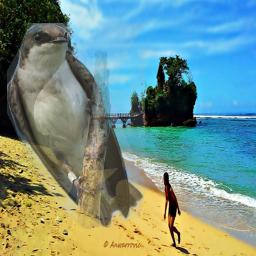Swallow: (7, 23, 145, 230)
